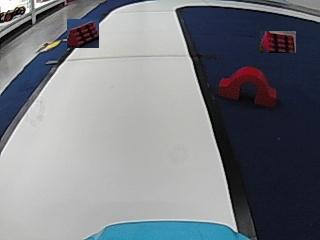bridge: (219, 66, 276, 106)
